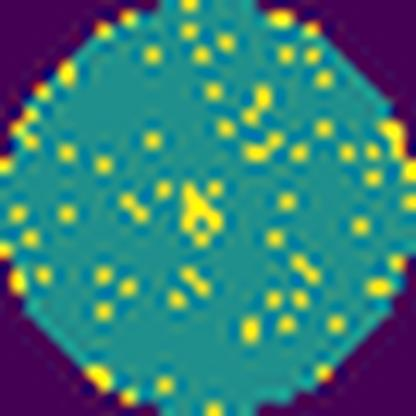Center: (180, 178, 228, 256)
